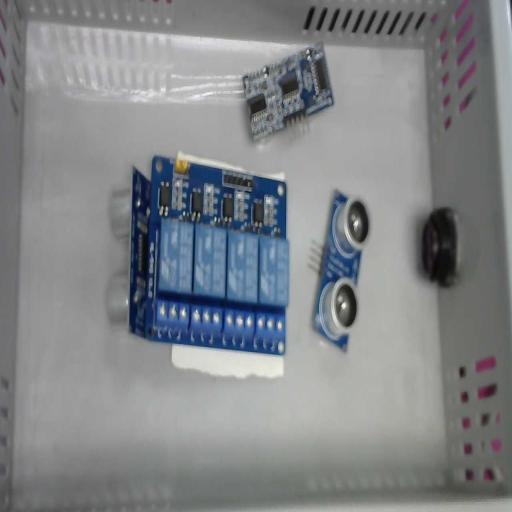relay_module: (144, 154, 290, 378)
ultrasonic_hc-sr04: (307, 188, 371, 354), (241, 39, 334, 147), (106, 166, 152, 338)
